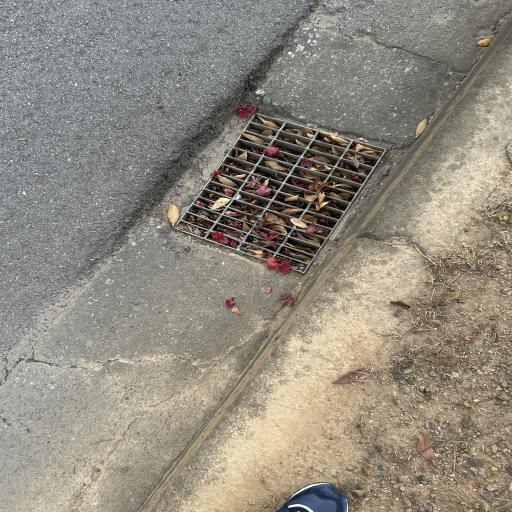debris: (252, 144, 358, 247), (249, 245, 298, 268), (241, 132, 281, 155), (227, 208, 258, 231), (212, 165, 235, 196), (211, 229, 240, 247), (246, 178, 270, 196), (284, 127, 312, 141), (353, 143, 381, 156), (321, 133, 348, 146), (265, 160, 291, 172), (258, 120, 276, 135), (291, 245, 308, 259), (208, 196, 225, 210), (346, 151, 364, 162), (286, 190, 300, 200), (186, 218, 194, 231), (235, 151, 246, 159), (292, 179, 302, 187), (195, 200, 205, 205), (243, 164, 251, 170), (284, 156, 293, 161), (298, 140, 305, 146), (285, 249, 291, 254)
drain: (174, 113, 396, 274)
